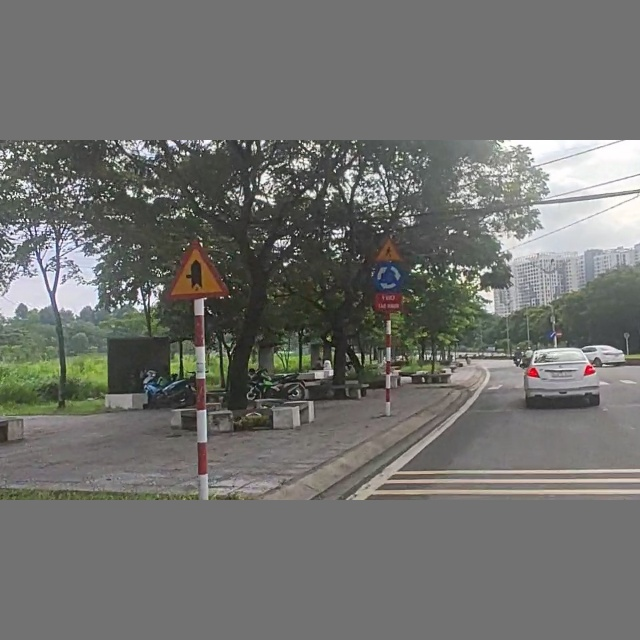P.102: (556, 329, 563, 337)
R.302a: (547, 330, 556, 339)
R.303: (370, 263, 405, 291)
W.207: (163, 237, 231, 303)
W.224: (371, 236, 405, 263)
